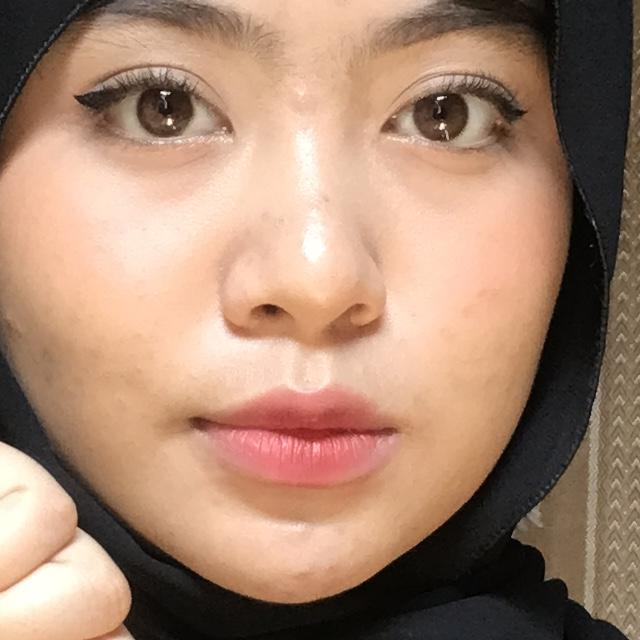sedih: (0, 296, 365, 640)
